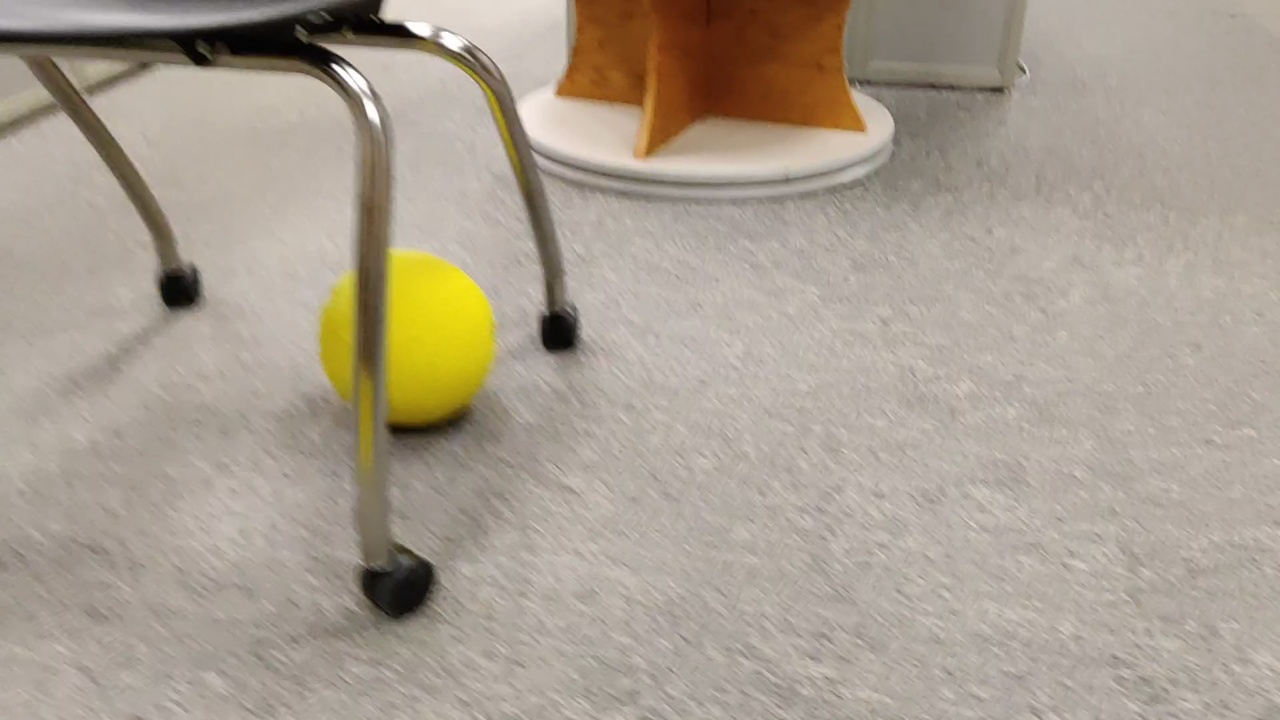Ball: (325, 248, 497, 430)
